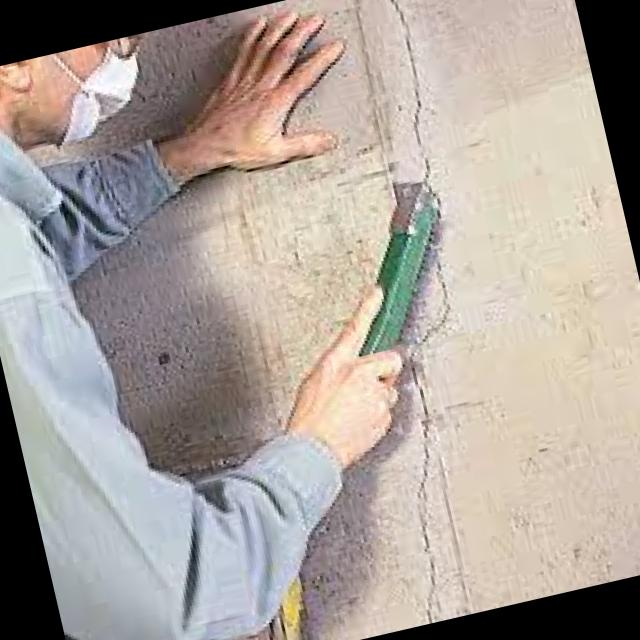crack: (340, 226, 528, 621), (374, 0, 445, 178)
